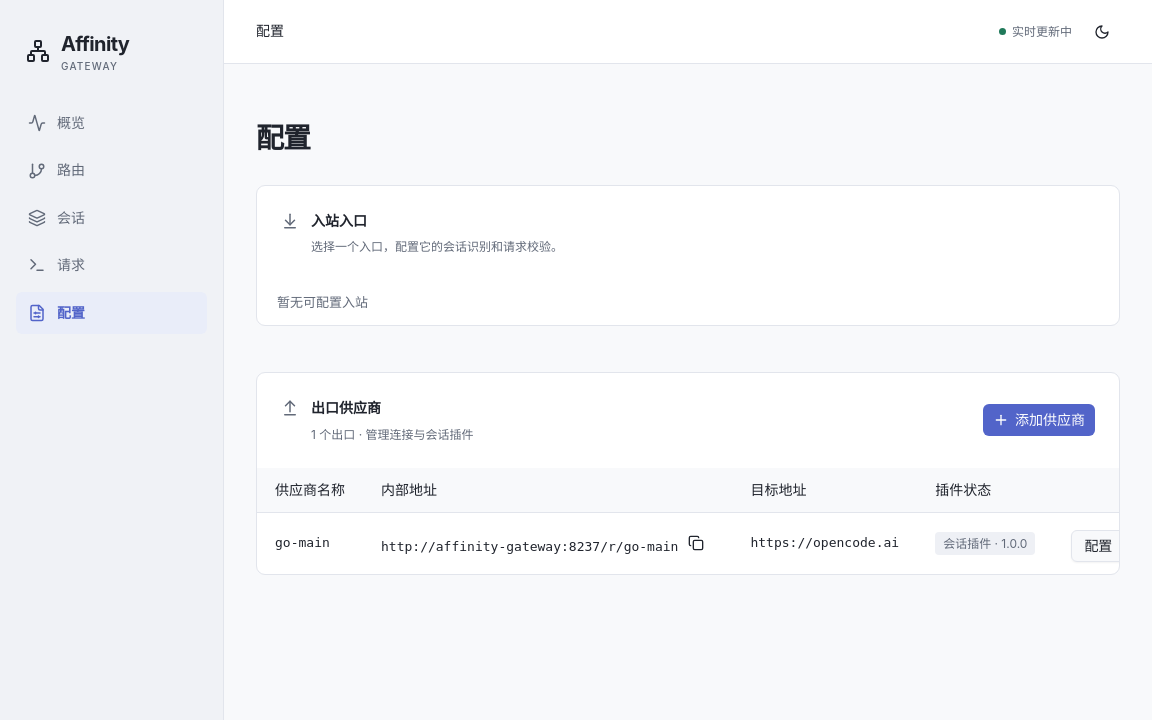
Test: supplier configuration › has no edit action and still adds suppliers
The width and height of the screenshot is (1152, 720).
Expected: the button named "复制 go-main 内部地址" is shown, [678,525,714,561]
Click the button "添加供应商" at (1039, 420), box [983,404,1095,436]
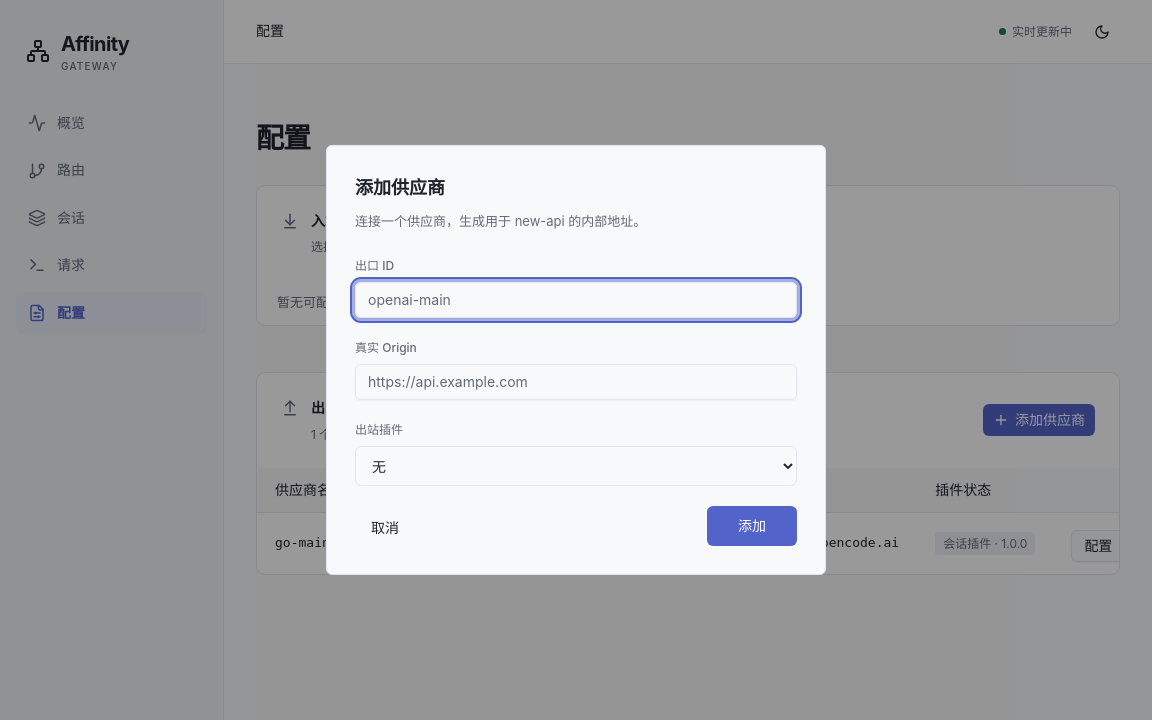
Type "new-main" into the field labelled "出口 ID" at (576, 300), box [355,282,797,318]
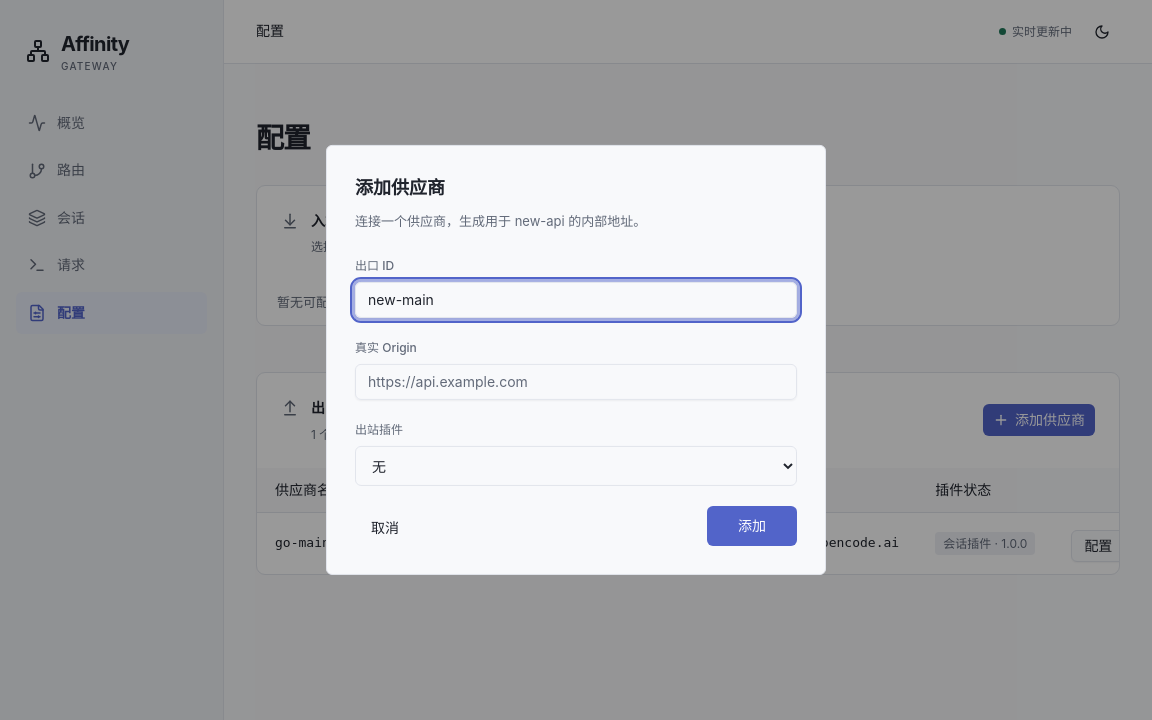
Type "https://example.com" into the field labelled "真实 Origin" at (576, 382), box [355,364,797,400]
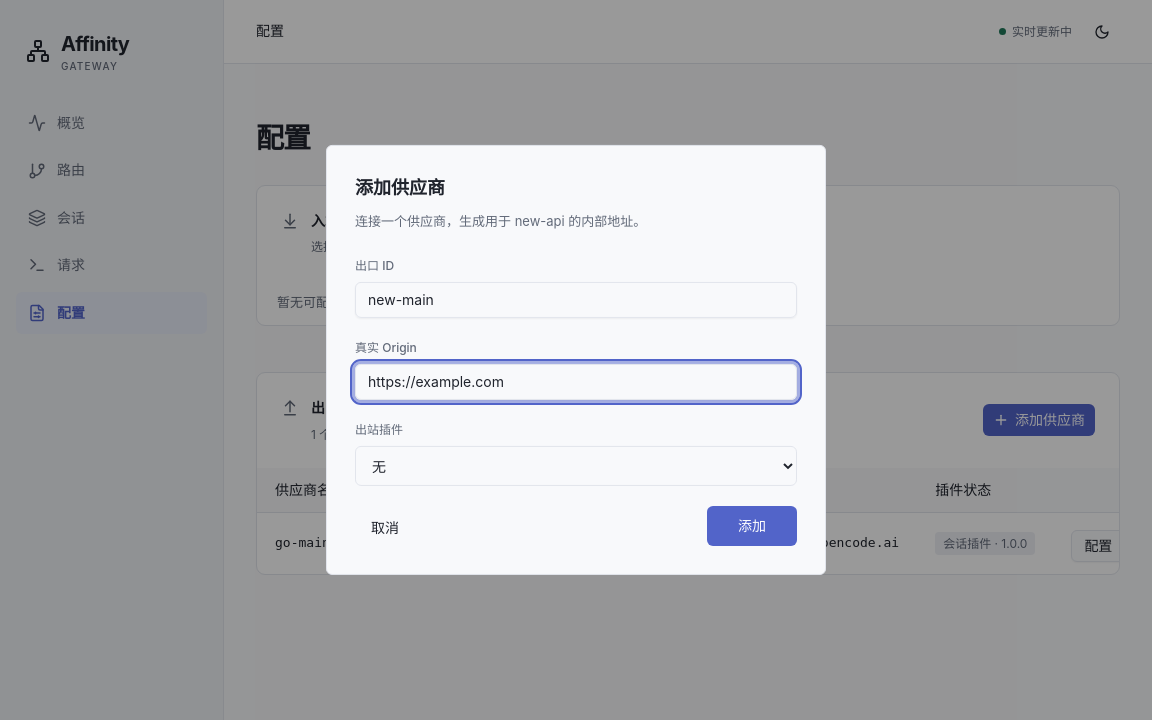
Click the button "添加" at (752, 526), box [707,506,797,546]
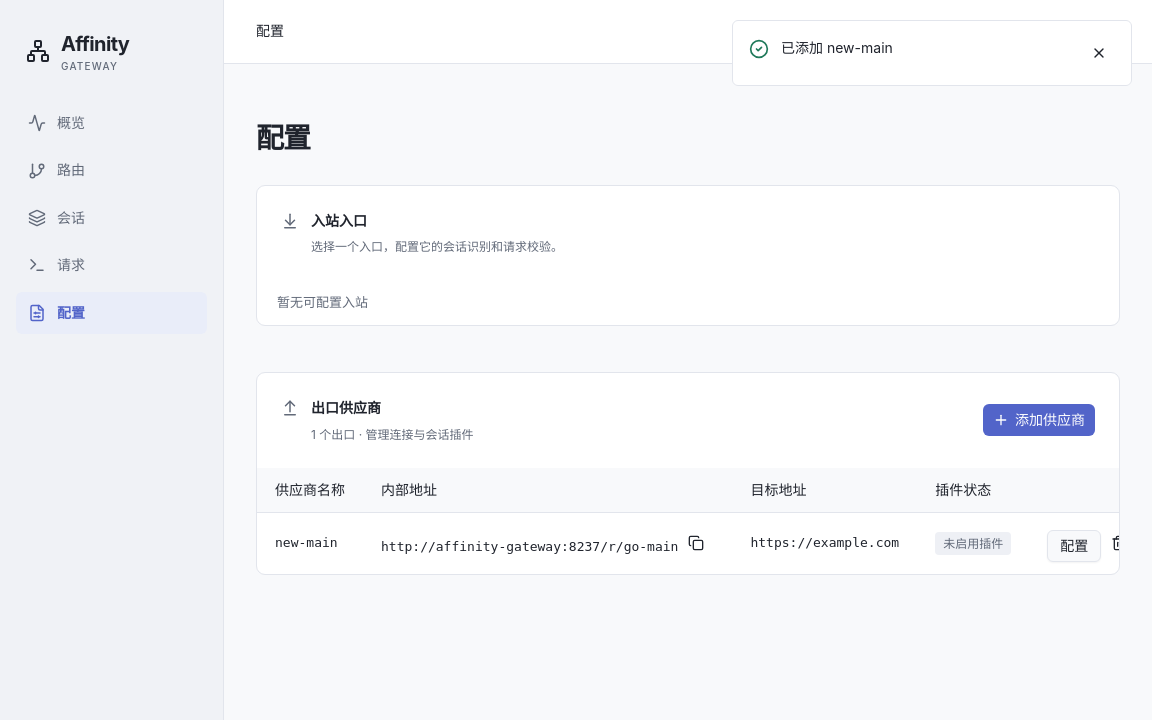
Result: the text "已添加 new-main" is shown at [781,39,893,56]
Result: the label labelled "出口 ID" is gone
